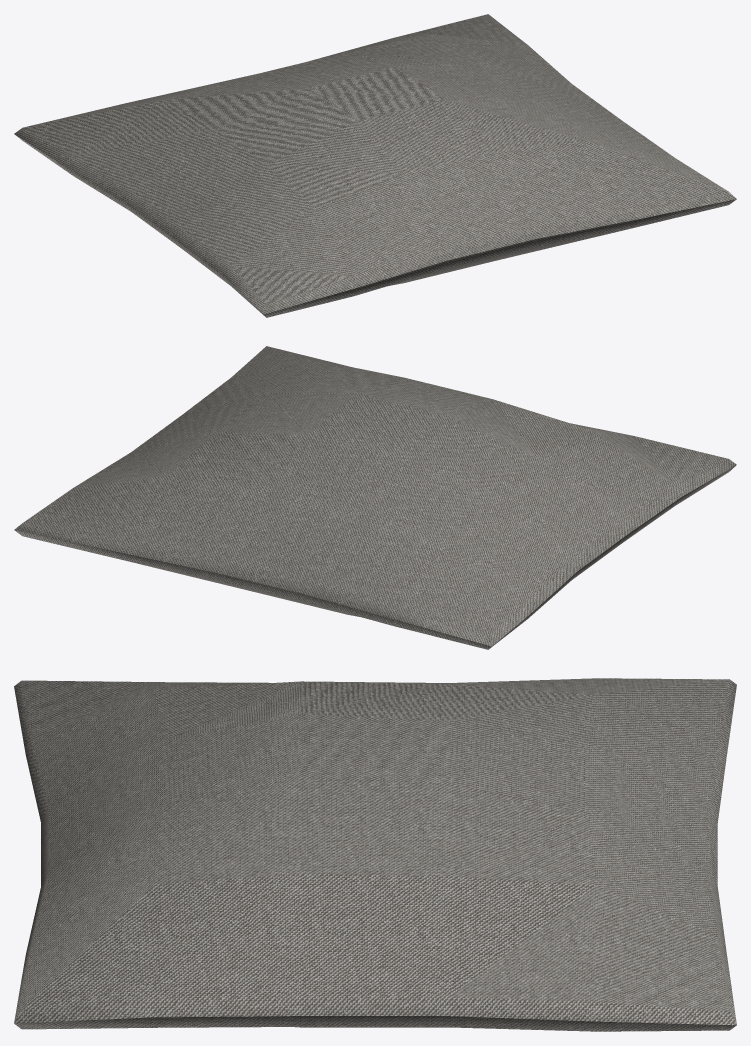
The model's file is podushka.fbx.
The picture shows the model from 3 angles, top to bottom: view 1: azimuth 30°, elevation 25°; view 2: azimuth 150°, elevation 25°; view 3: azimuth 270°, elevation 25°; orthographic projection. The views are drawn at different scales.
Parts seen in each view (by area): view 1: podushka; view 2: podushka; view 3: podushka.
Part boxes in pixels (x1,y1,x2,y2): podushka: (14, 14, 736, 317); podushka: (14, 346, 736, 649); podushka: (14, 678, 736, 1031).
Bounding box in the file's own units: 57.86 × 17.11 × 51.91.
1 material, 1 textured.
